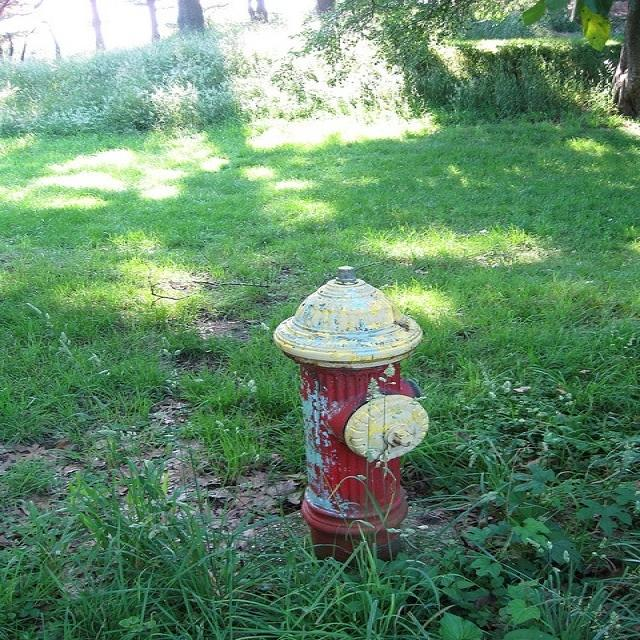fire_hydrant: (213, 264, 545, 577)
